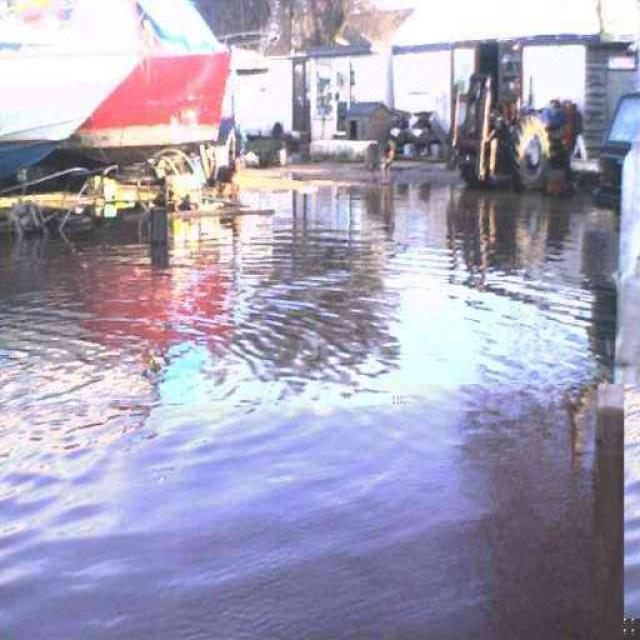puddle: (7, 243, 582, 628), (260, 187, 586, 348)
